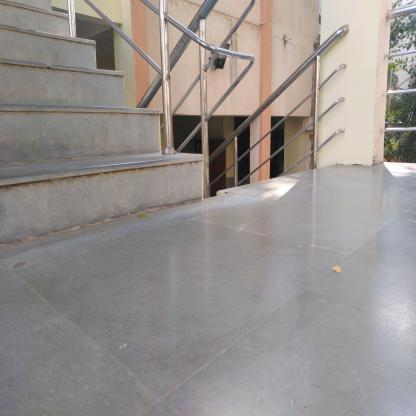stairs: (5, 43, 96, 260)
